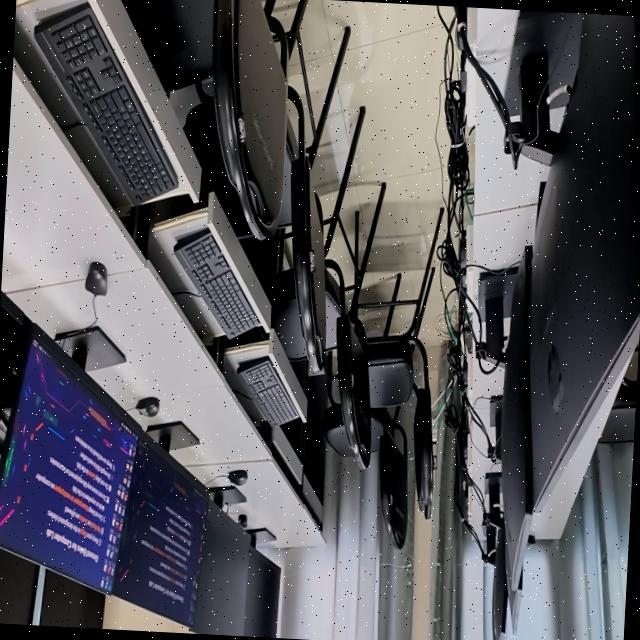Chair: (123, 0, 287, 239), (268, 0, 351, 373), (354, 210, 444, 518), (309, 260, 371, 469), (261, 241, 309, 363), (371, 407, 408, 550), (323, 353, 355, 457), (600, 378, 637, 443)
Keyboard: (35, 1, 179, 205), (175, 232, 260, 337), (238, 357, 300, 425)
Monitor: (502, 11, 640, 589), (0, 337, 139, 593), (113, 440, 207, 625), (500, 248, 533, 629), (192, 503, 254, 636), (40, 570, 106, 629), (243, 548, 281, 638), (0, 549, 40, 625), (493, 528, 510, 640), (508, 557, 523, 635)
Mouse: (85, 263, 107, 297), (136, 398, 159, 418), (228, 470, 247, 486)
